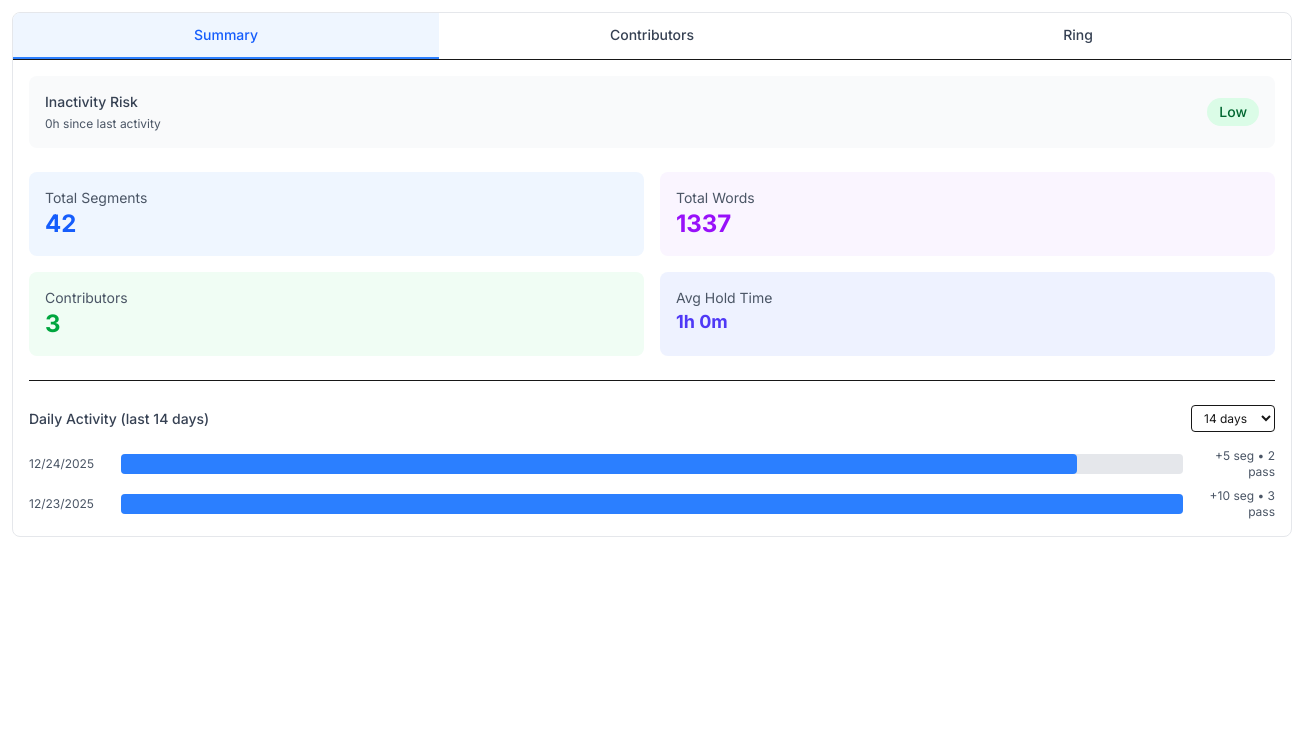
AnalyticsPanel › switches to Contributors tab and fetches contributor data
The image size is (1304, 732).
Note: Click Contributors tab
Click the tab "Contributors". click: (652, 36)
box: [439, 13, 865, 59]
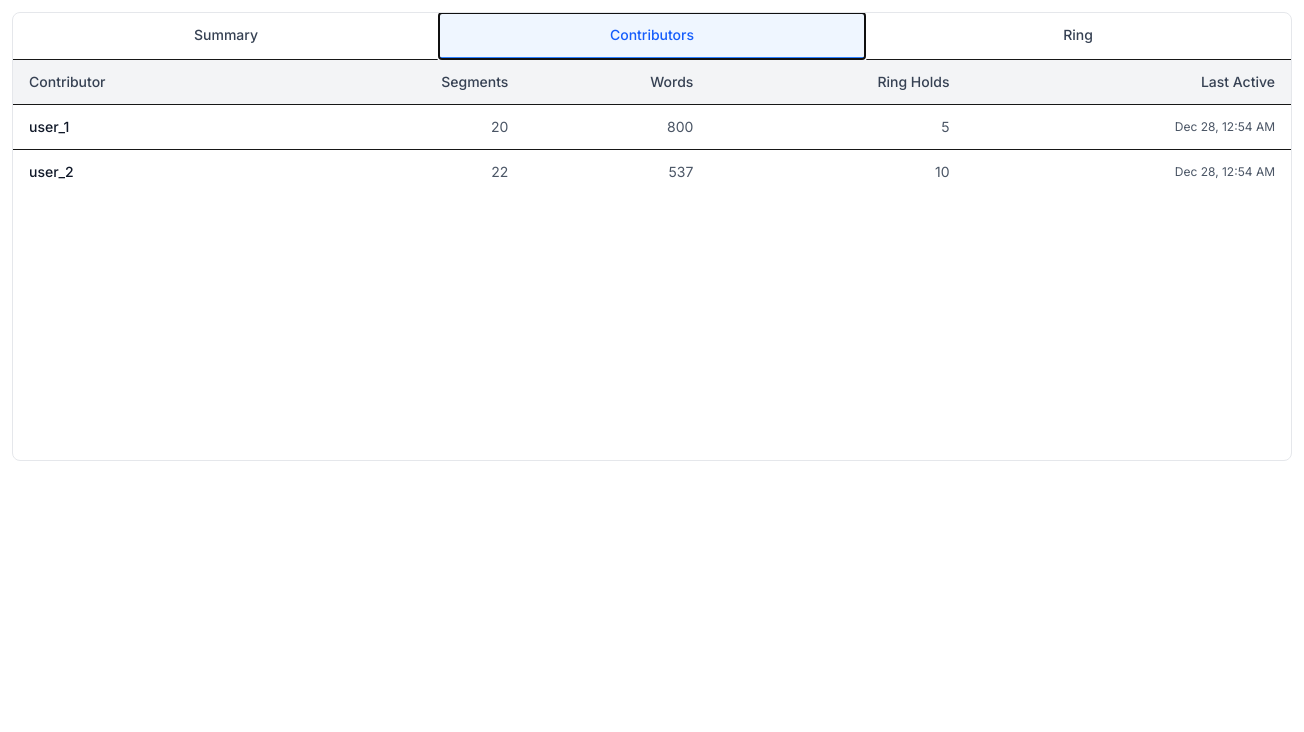
expect the text "user_1" is shown: met, box [13, 104, 280, 150]
expect the text "user_2" is shown: met, box [13, 150, 280, 194]
expect the text "22" is shown: met, box [280, 150, 524, 194]
